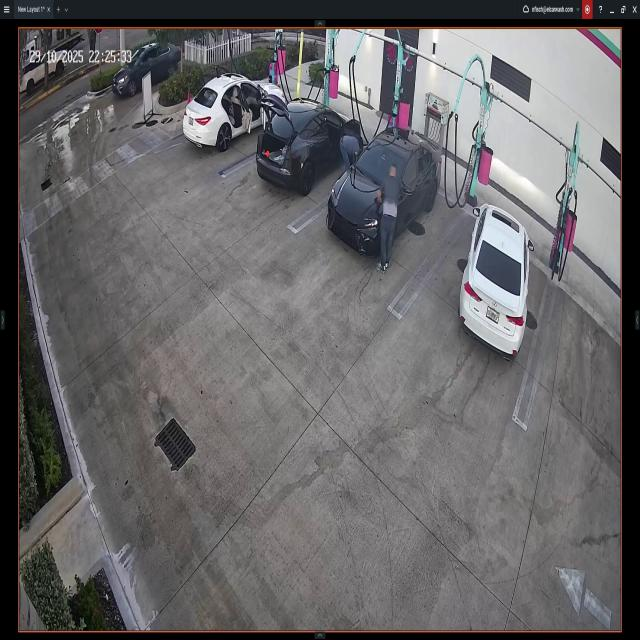Car: (328, 129, 441, 255), (456, 203, 534, 361), (259, 98, 360, 192), (183, 74, 287, 149), (111, 44, 180, 99)
